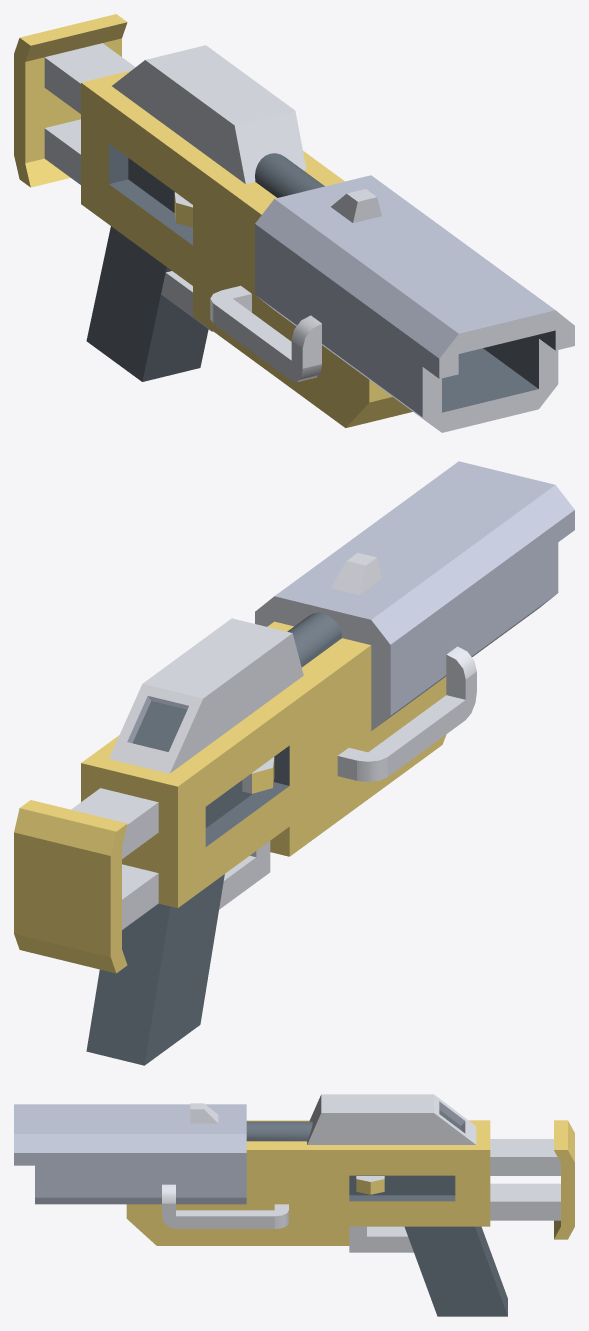
Rendered from blasterG.glb.
3 views of the same model, one above another, from view 1: azimuth 30°, elevation 25°; view 2: azimuth 150°, elevation 25°; view 3: azimuth 270°, elevation 25° (orthographic). The views are drawn at different scales.
Visible parts, largest first — view 1: blasterG; view 2: blasterG; view 3: blasterG.
Part boxes in pixels (x1=…): blasterG: x1=14, y1=14, x2=574, y2=432; blasterG: x1=14, y1=461, x2=574, y2=1065; blasterG: x1=14, y1=1094, x2=574, y2=1316.
Size of the model in its own units: 0.18 by 0.32 by 0.7959.
